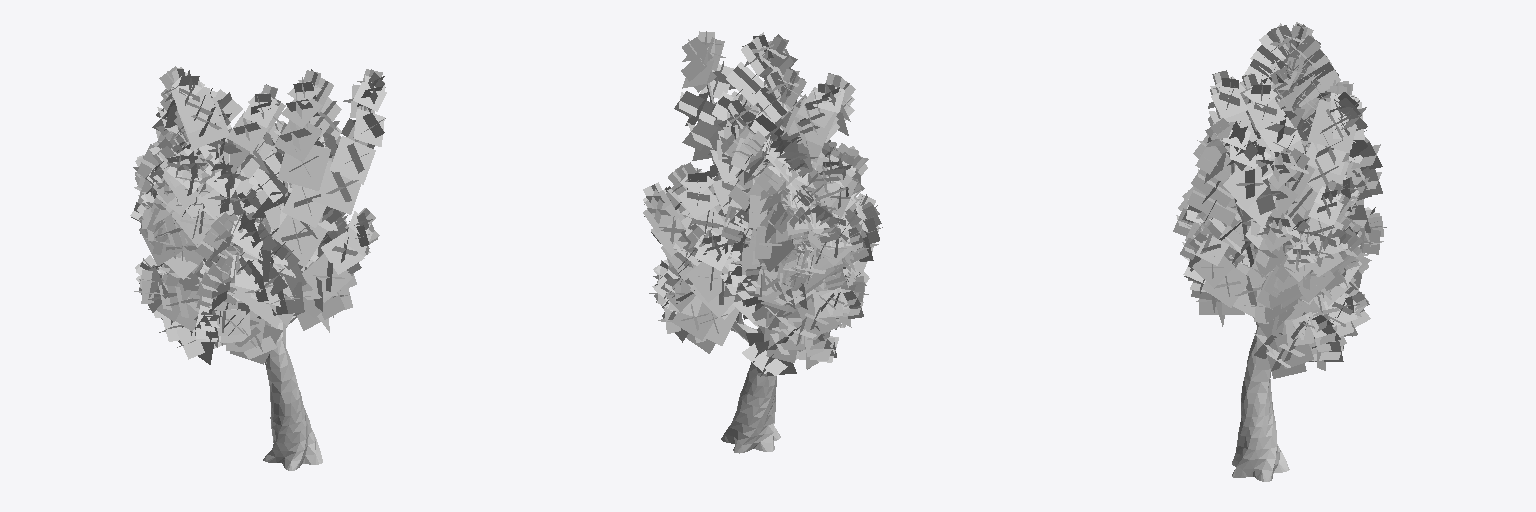
The model's file is TwistedTree_2.obj.
3 renders of one model, left to right at view 1: azimuth 30°, elevation 25°; view 2: azimuth 150°, elevation 25°; view 3: azimuth 270°, elevation 25°, orthographic.
Parts seen in each view (by area): view 1: TwistedTree_2; view 2: TwistedTree_2; view 3: TwistedTree_2.
Part boxes in pixels (left/top/right/bottom): TwistedTree_2: left=130, top=66, right=386, bottom=470; TwistedTree_2: left=643, top=31, right=882, bottom=453; TwistedTree_2: left=1173, top=22, right=1386, bottom=481.
Bounding box in the file's own units: 10.56 × 18.95 × 9.2.